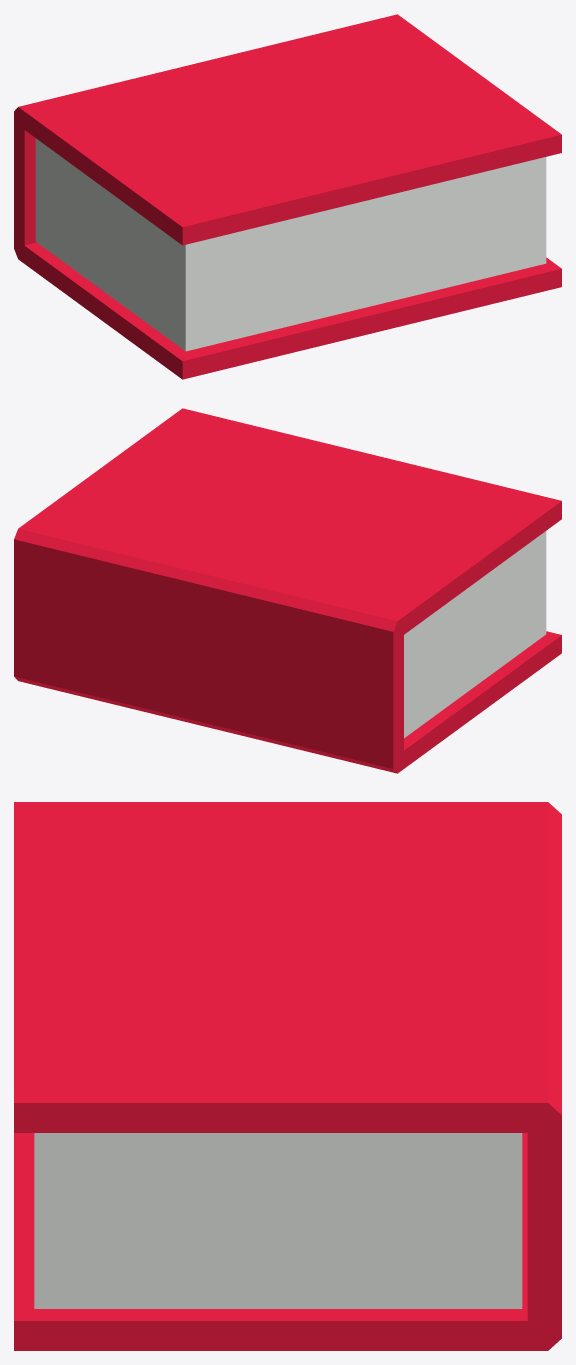
The model's file is Book_2a.fbx.
The picture shows the model from 3 angles, top to bottom: view 1: azimuth 30°, elevation 25°; view 2: azimuth 150°, elevation 25°; view 3: azimuth 270°, elevation 25°; orthographic projection. The views are drawn at different scales.
Visible parts, largest first — view 1: Book_2a; view 2: Book_2a; view 3: Book_2a.
Boxes of the visible parts, x1=… form: Book_2a: x1=14, y1=14, x2=561, y2=379; Book_2a: x1=14, y1=408, x2=561, y2=773; Book_2a: x1=14, y1=802, x2=561, y2=1350.
Size of the model in its own units: 0.2083 by 0.08 by 0.1603.
